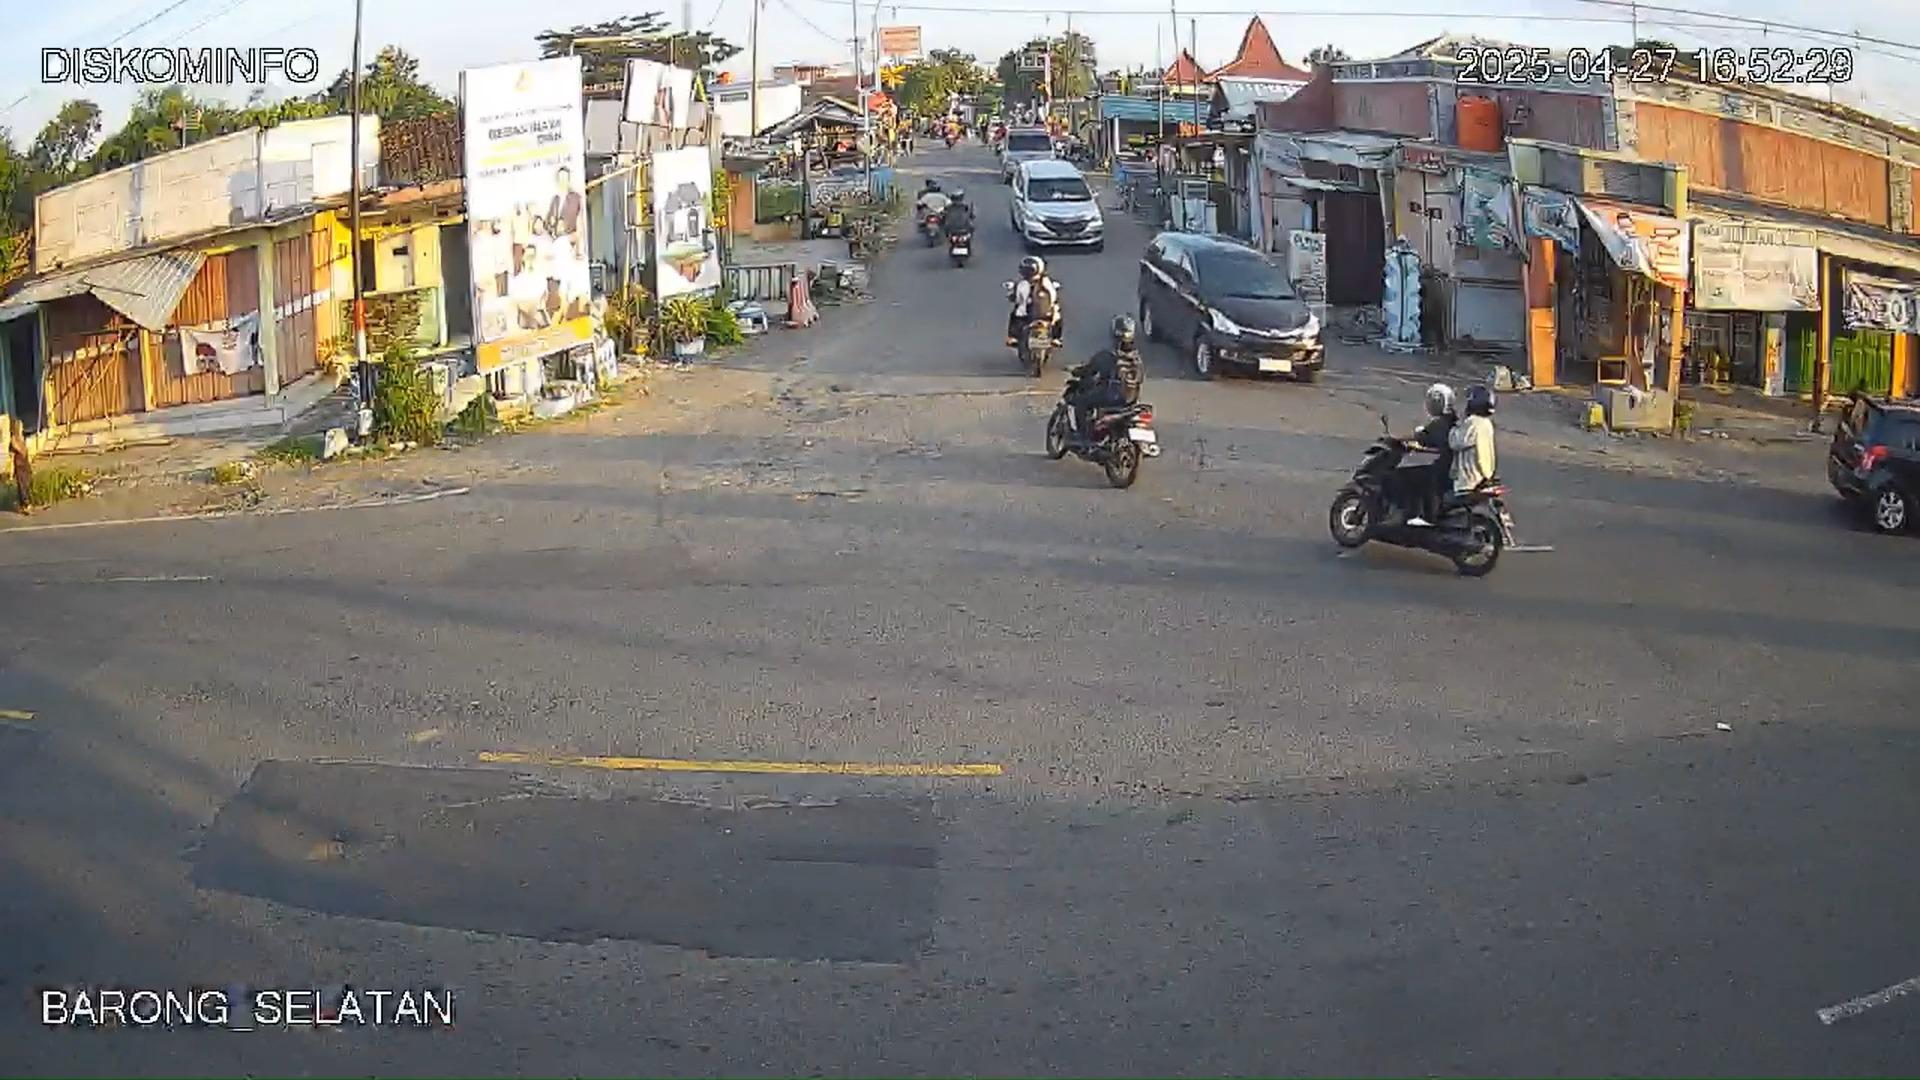Motor: (1325, 411, 1507, 574), (1043, 365, 1154, 488)
mobil: (1142, 231, 1309, 382), (1822, 394, 1917, 537)
